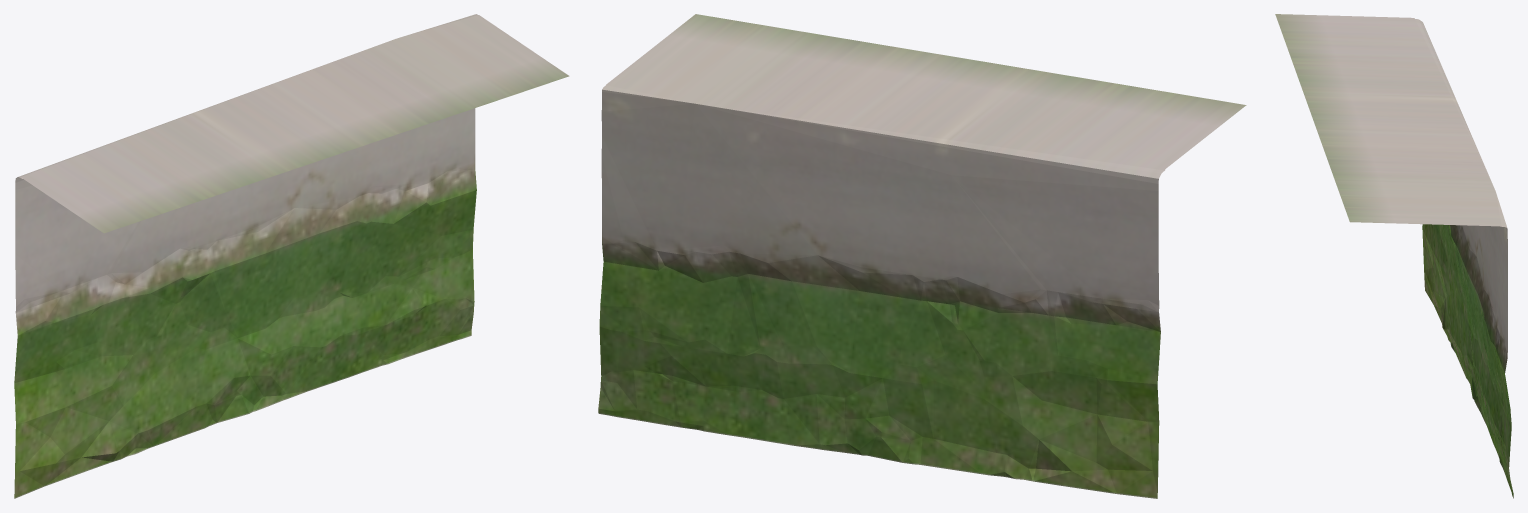
The model's file is map_270_60.obj.
3 views of the same model, side by side, from view 1: azimuth 30°, elevation 25°; view 2: azimuth 150°, elevation 25°; view 3: azimuth 270°, elevation 25° (orthographic). The views are drawn at different scales.
Visible parts, largest first — view 1: grp1; view 2: grp1; view 3: grp1.
Part boxes in pixels (x1,y1,x2,y2): grp1: (14, 14, 569, 498); grp1: (598, 14, 1246, 498); grp1: (1275, 14, 1513, 498).
Size of the model in its own units: 10 by 6.2 by 4.85.
1 material, 1 textured.
